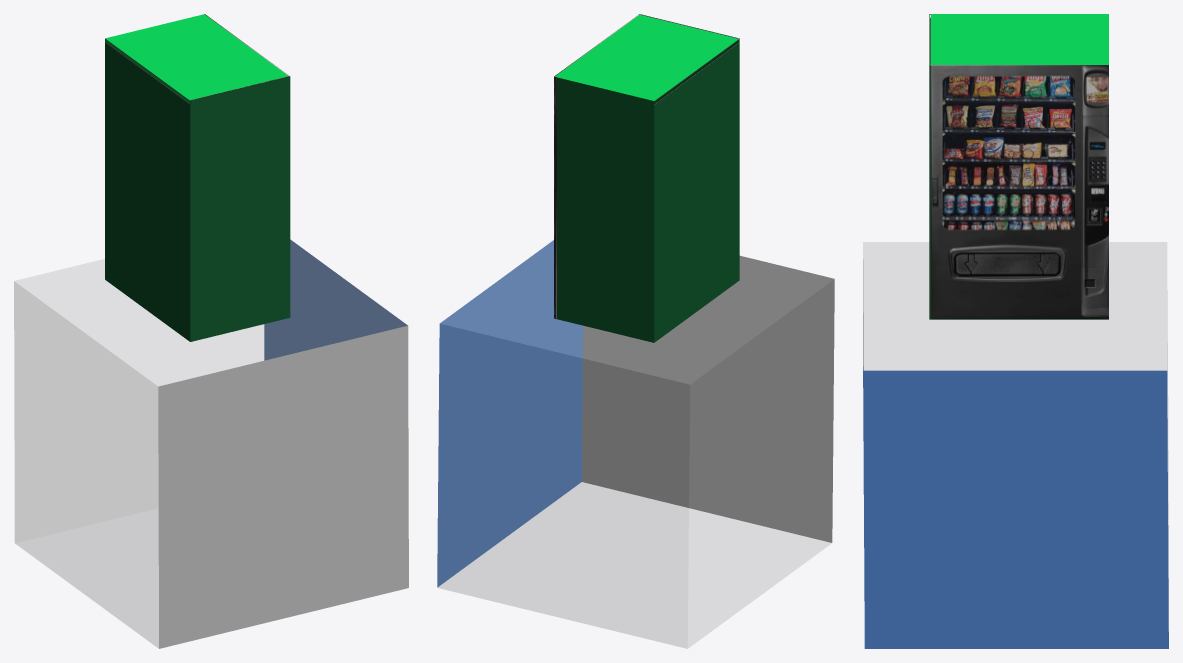
The model's file is vending-machine.dae.
3 renders of one model, left to right at view 1: azimuth 30°, elevation 25°; view 2: azimuth 150°, elevation 25°; view 3: azimuth 270°, elevation 25°, orthographic. The views are drawn at different scales.
Visible parts, largest first — view 1: Cube, Cube.001; view 2: Cube, Cube.001; view 3: Cube, Cube.001.
Boxes of the visible parts, left/top/right/bottom form: Cube: left=14, top=239, right=408, bottom=648; Cube.001: left=105, top=14, right=290, bottom=341; Cube: left=437, top=240, right=834, bottom=648; Cube.001: left=554, top=14, right=739, bottom=342; Cube: left=863, top=242, right=1168, bottom=648; Cube.001: left=929, top=14, right=1108, bottom=319.
Size of the model in its own units: 7.12 by 7.12 by 13.82.
